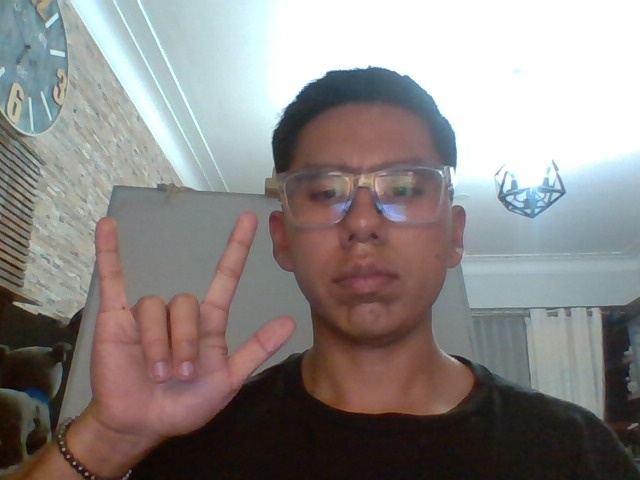I Love you: (90, 212, 299, 443)
